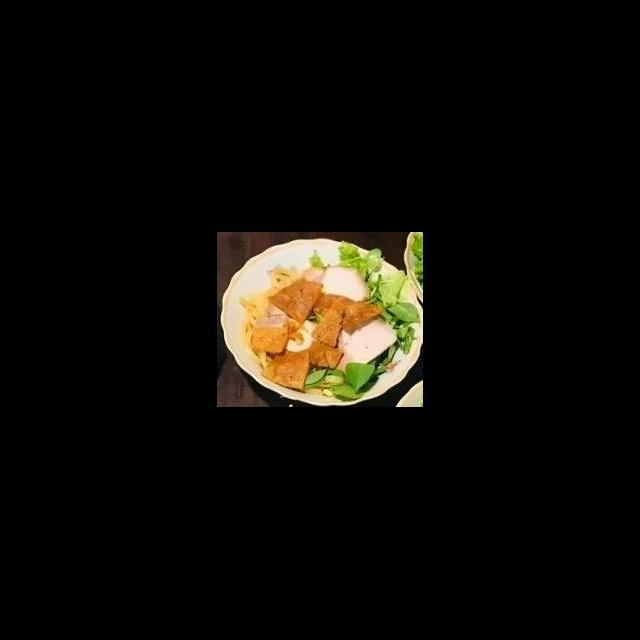banh da: (309, 290, 384, 338), (265, 276, 325, 326), (257, 346, 313, 394), (309, 302, 347, 350), (247, 324, 291, 358), (305, 340, 346, 372)
mi: (235, 266, 301, 332), (238, 320, 275, 370)
mi quang: (217, 248, 423, 408)
thit heo: (331, 314, 399, 376), (254, 302, 325, 356), (299, 264, 373, 306)
